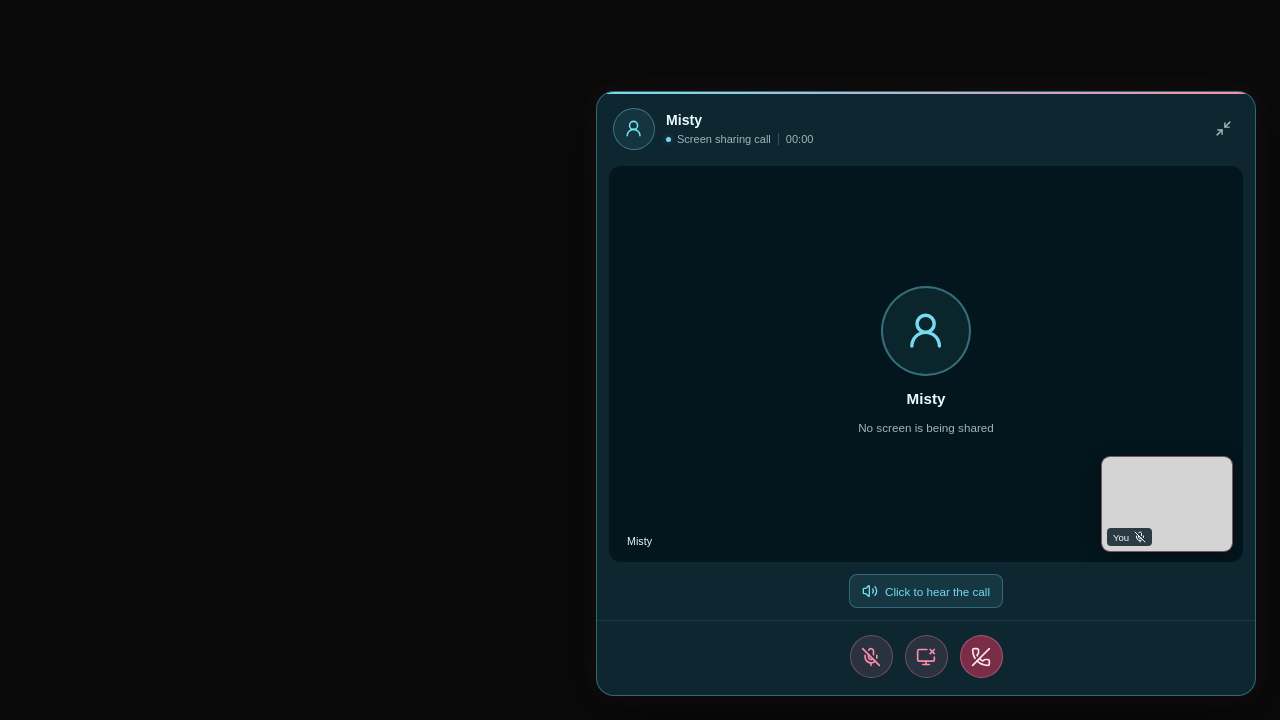
Test: trainer call panel › removes a video that the other trainer has stopped and offers audio playback unlock
This screenshot has width=1280, height=720.
Click the button "Click to hear the call" at (926, 591), box [849,574,1003,608]
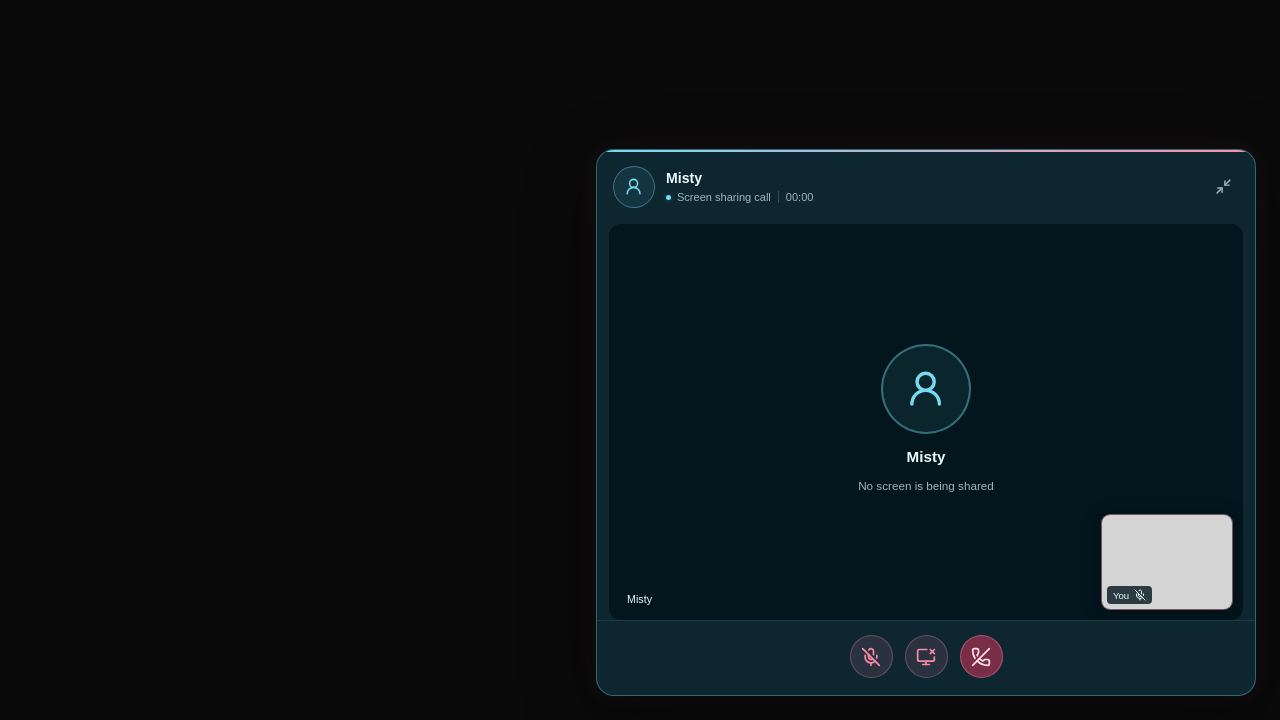
Check: the button "Click to hear the call" is gone
